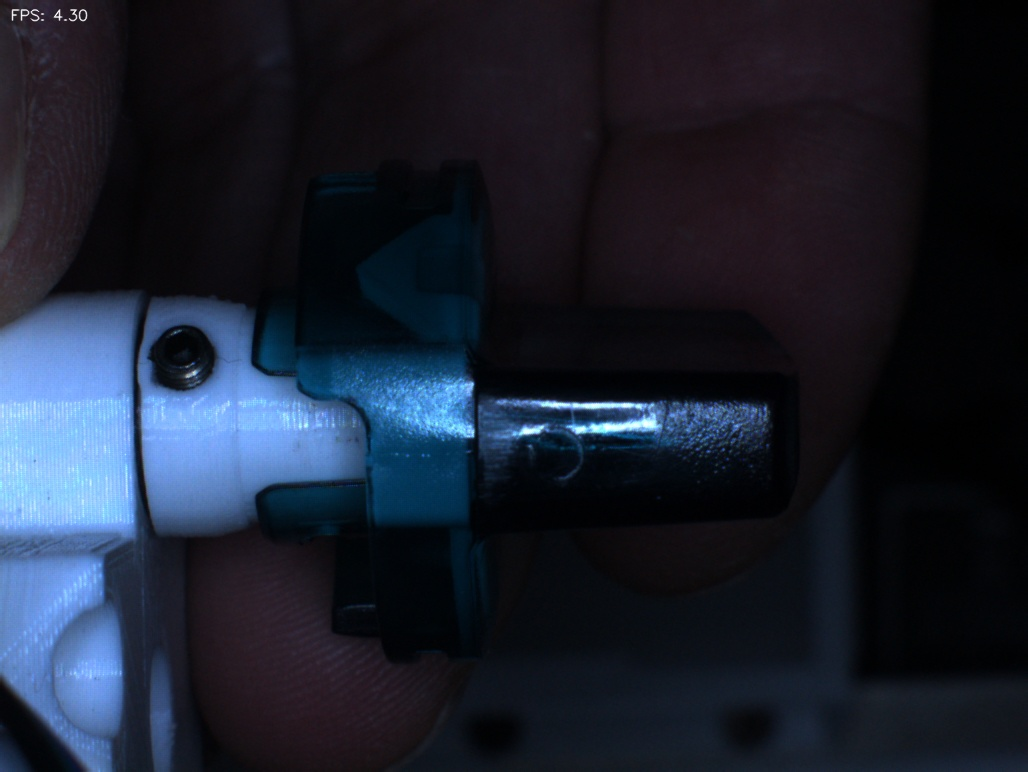DentOk: (329, 229, 406, 311)
